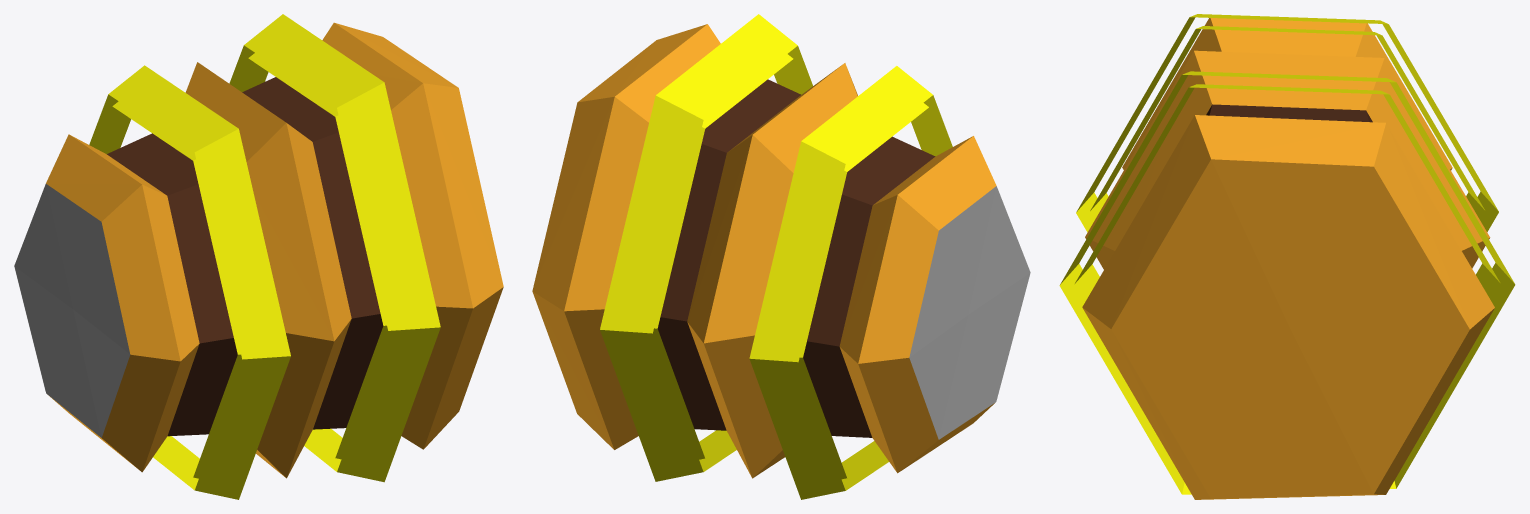
File: Bracer 08.FBX
The picture shows the model from 3 angles, left to right: view 1: azimuth 30°, elevation 25°; view 2: azimuth 150°, elevation 25°; view 3: azimuth 270°, elevation 25°; orthographic projection. The views are drawn at different scales.
Parts seen in each view (by area): view 1: Bracer 08; view 2: Bracer 08; view 3: Bracer 08.
Part boxes in pixels (<box>): Bracer 08: <box>14,14,503,499</box>; Bracer 08: <box>532,14,1030,499</box>; Bracer 08: <box>1059,14,1515,499</box>.
Size of the model in its own units: 23.05 by 24.49 by 24.89.
Materials: 1 (1 with a texture image).
